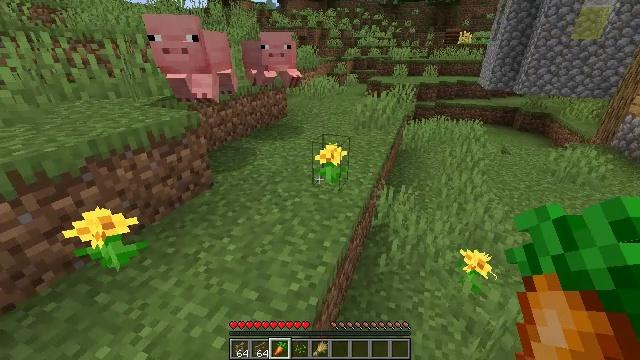pig: (143, 16, 236, 100), (243, 34, 302, 87)
